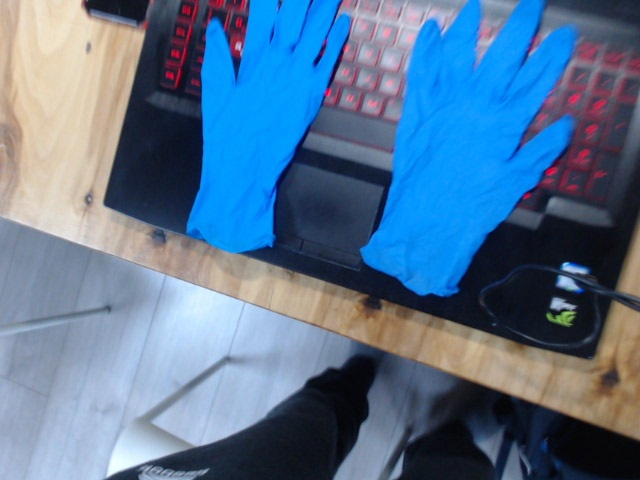medical_glove: (359, 2, 574, 298)
